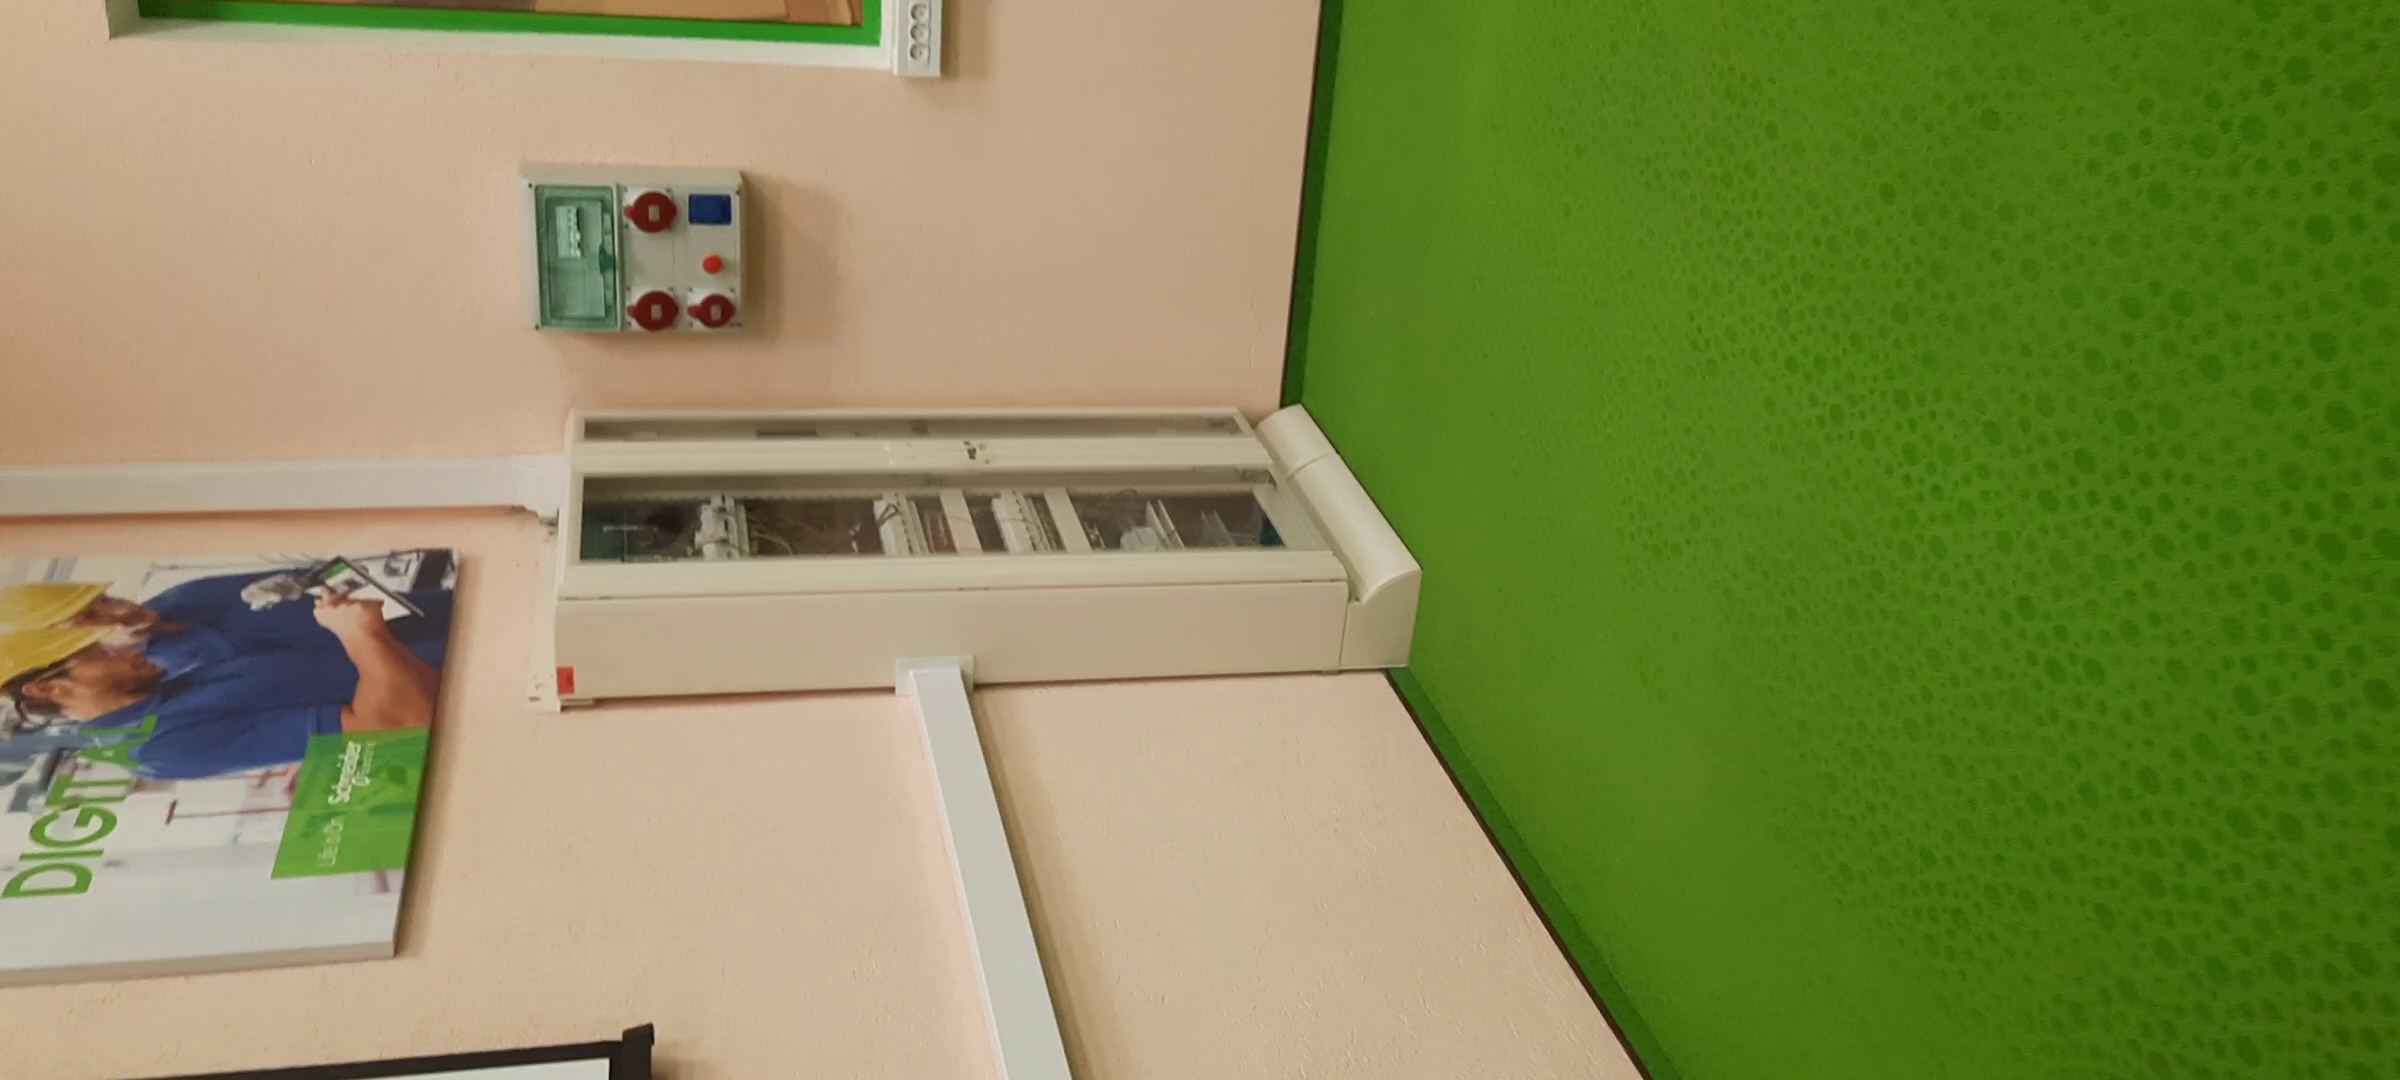stand1: (548, 410, 1410, 691)
